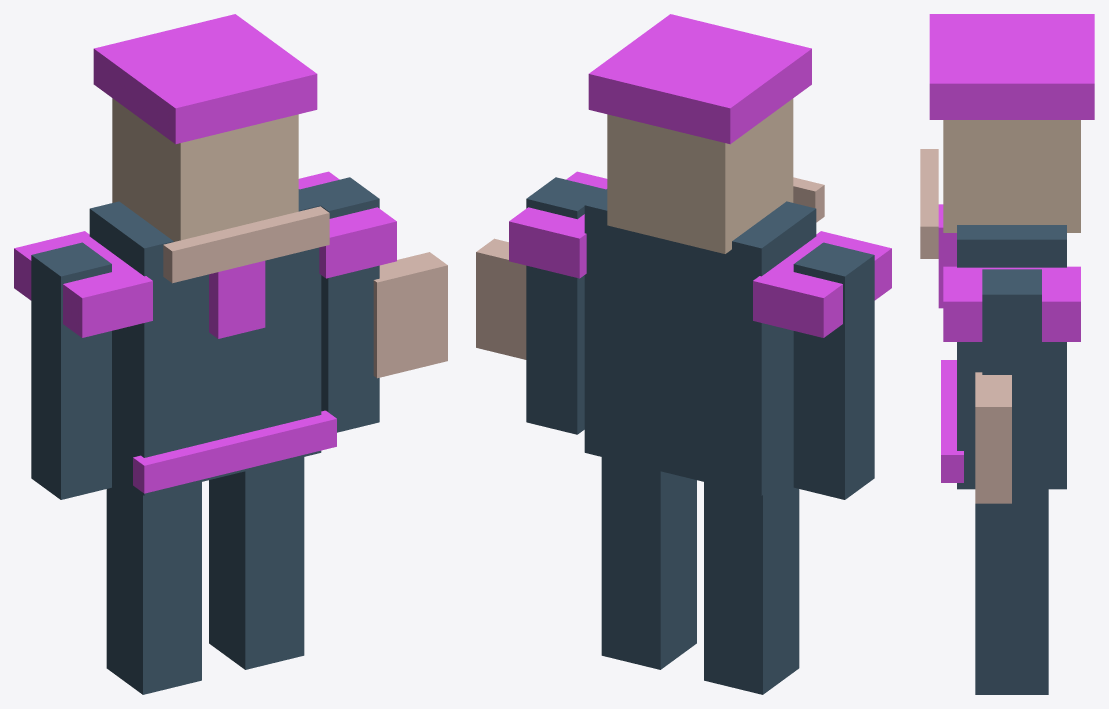
The model's file is 11_juno_rootborne_medic_from_emergency.glb.
3 renders of one model, left to right at view 1: azimuth 30°, elevation 25°; view 2: azimuth 150°, elevation 25°; view 3: azimuth 270°, elevation 25°, orthographic.
Parts seen in each view (by area): view 1: Juno Rootborne, Medic from Emergency; view 2: Juno Rootborne, Medic from Emergency; view 3: Juno Rootborne, Medic from Emergency.
Part boxes in pixels (x1,y1,x2,y2): Juno Rootborne, Medic from Emergency: [14, 14, 447, 694]; Juno Rootborne, Medic from Emergency: [476, 14, 891, 694]; Juno Rootborne, Medic from Emergency: [920, 14, 1094, 694].
Size of the model in its own units: 1.04 by 1.56 by 0.4073.
